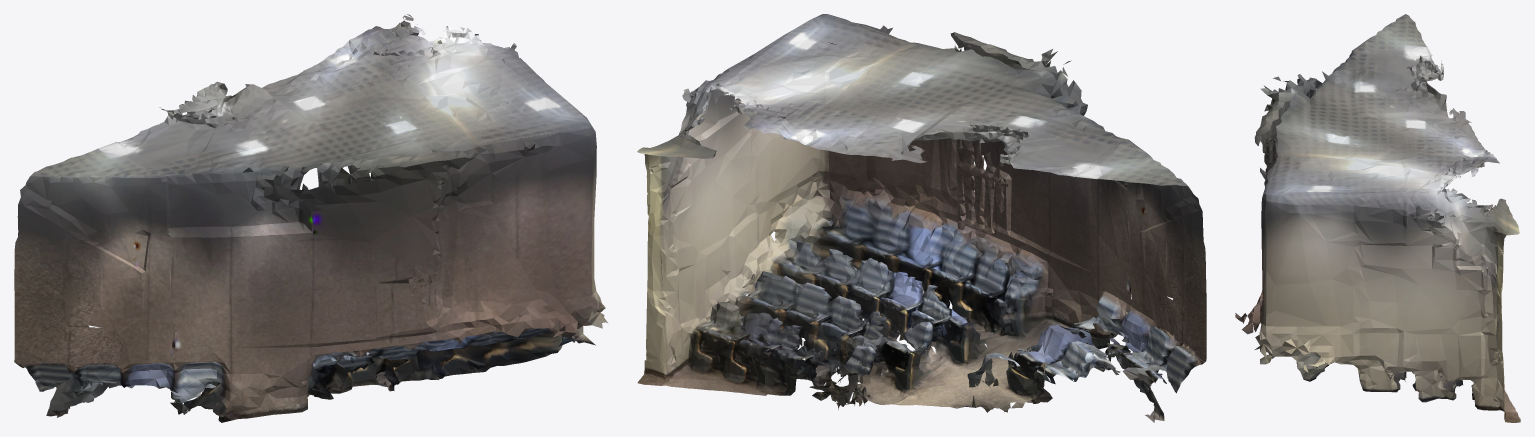
The picture shows the model from 3 angles, left to right: view 1: azimuth 30°, elevation 25°; view 2: azimuth 150°, elevation 25°; view 3: azimuth 270°, elevation 25°; orthographic projection. The views are drawn at different scales.
Parts seen in each view (by area): view 1: mesh; view 2: mesh; view 3: mesh.
Part boxes in pixels (x1=…): mesh: x1=14, y1=14, x2=608, y2=422; mesh: x1=637, y1=14, x2=1206, y2=422; mesh: x1=1235, y1=14, x2=1520, y2=422.
Bounding box in the file's own units: 7.6 × 4.31 × 4.58.
1 material, 1 textured.
